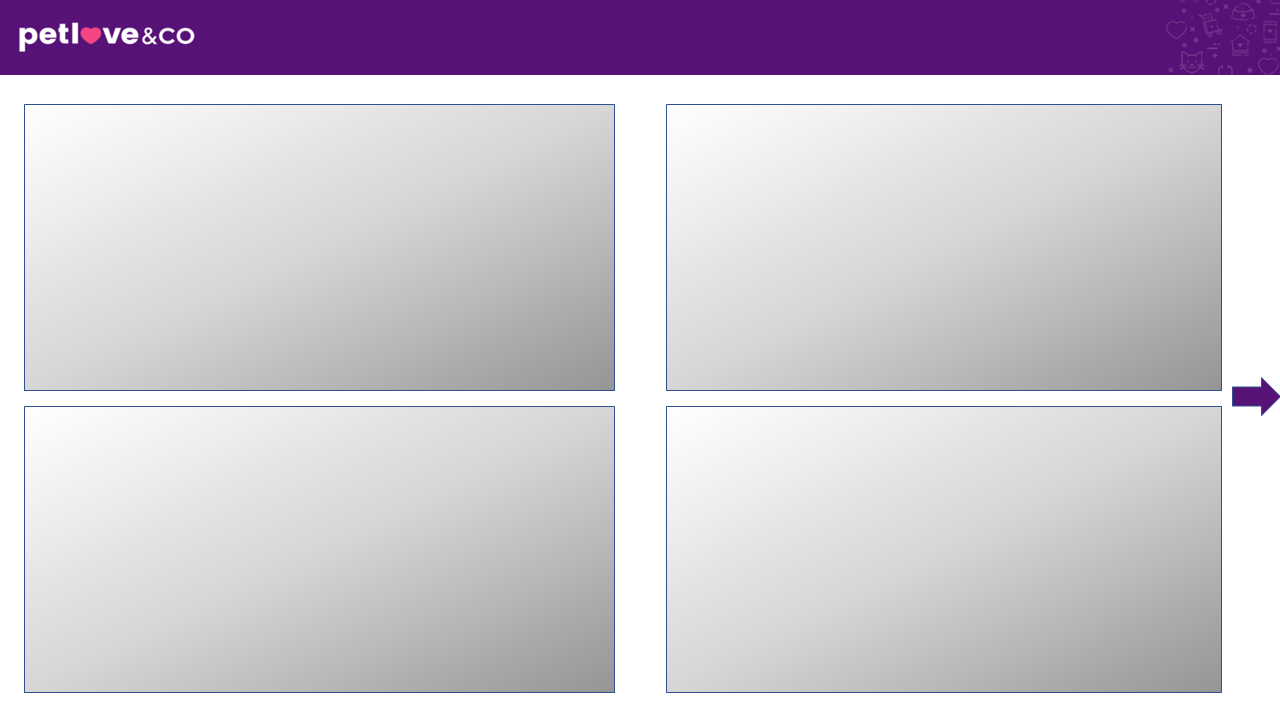

This screenshot's page, from the dashboard's own definition file:
{"tool":"powerbi","page":{"name":"Página 1","canvas":[1280,720],"ordinal":0},"visuals":[{"type":"columnChart","fields":{"Category":["user_data.faixa_etaria_10","user_data.faixa_etaria_05","user_data.idade"],"Y":["CountNonNull(user_data.usuario_excluido)"]},"box":[154.7,73.9,532,305.4],"z":0},{"type":"actionButton","box":[0,0,100,40],"z":1},{"type":"columnChart","fields":{"Category":["user_data.usuario_excluido.Variation.Hierarquia de datas.Ano","user_data.usuario_excluido.Variation.Hierarquia de datas.Mês"],"Y":["CountNonNull(user_data.usuario_excluido)"]},"box":[711,79.8,569,299.6],"z":2},{"type":"slicer","fields":{"Values":["user_data.usuario_excluido.Variation.Hierarquia de datas.Ano"]},"box":[18.5,412.4,300.5,299.6],"z":3}]}

Visuals, with their boxes in screenshot pixels (x1, y1, x2, y2), scaled from the page's 1280x720 canvas onto the 1280x720 screenshot:
columnChart - user_data.faixa_etaria_10 x user_data.faixa_etaria_05: <region>155, 74, 687, 379</region>
actionButton: <region>0, 0, 100, 40</region>
columnChart - user_data.usuario_excluido.Variation.Hierarquia de datas.Ano x user_data.usuario_excluido.Variation.Hierarquia de datas.Mês: <region>711, 80, 1279, 379</region>
slicer - user_data.usuario_excluido.Variation.Hierarquia de datas.Ano: <region>18, 412, 319, 712</region>
